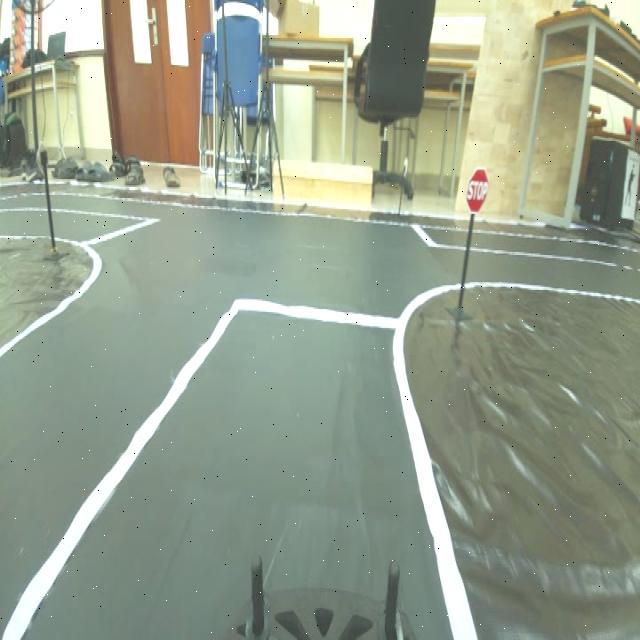stop: (460, 162, 490, 212)
